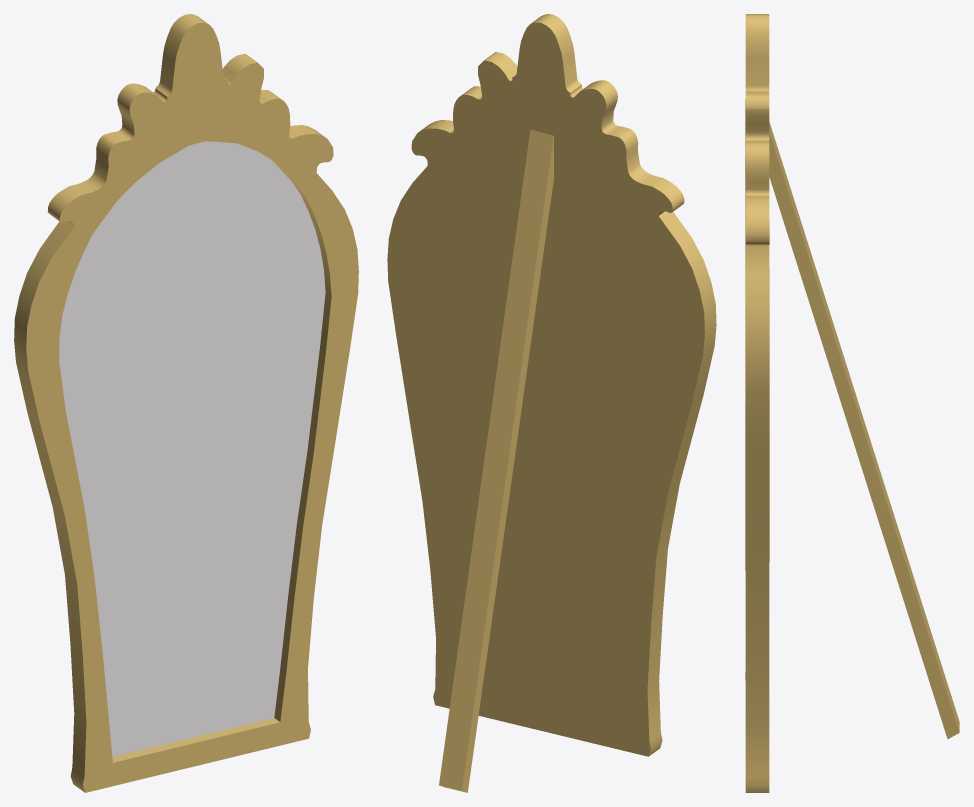
File: props_mirror.fbx
The picture shows the model from 3 angles, left to right: view 1: azimuth 30°, elevation 25°; view 2: azimuth 150°, elevation 25°; view 3: azimuth 270°, elevation 25°; orthographic projection. The views are drawn at different scales.
Parts seen in each view (by area): view 1: base_miroir; view 2: base_miroir; view 3: base_miroir.
Part boxes in pixels (left/top/right/bottom): base_miroir: left=14, top=14, right=358, bottom=792; base_miroir: left=387, top=14, right=716, bottom=792; base_miroir: left=745, top=14, right=959, bottom=792.
Bounding box in the file's own units: 72.13 × 154 × 41.18.
